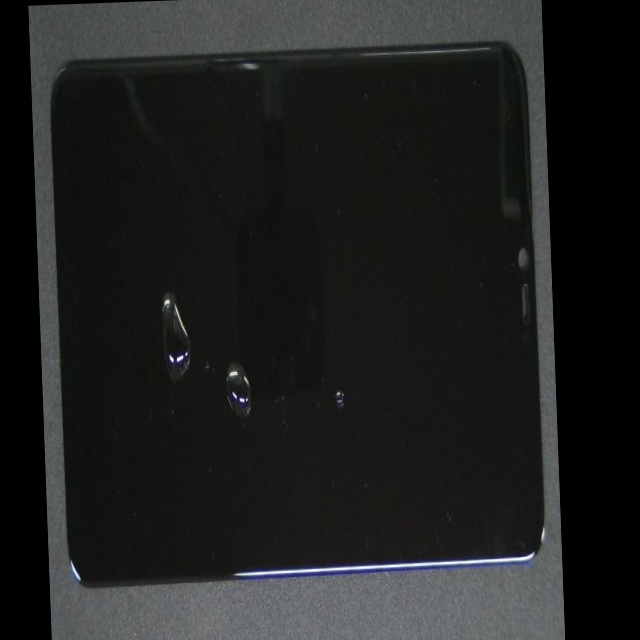oil: (149, 177, 350, 558), (124, 189, 268, 481)
